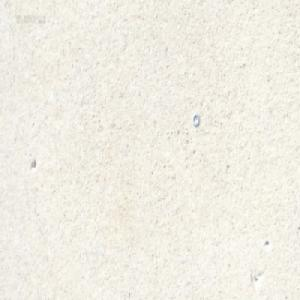Washer: (191, 112, 199, 127)
